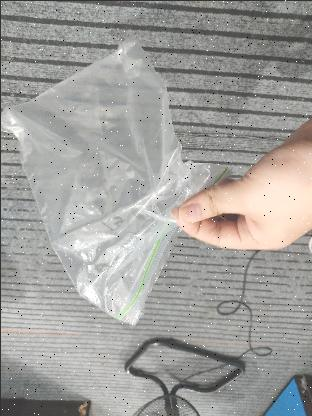Others: (1, 37, 230, 323)
